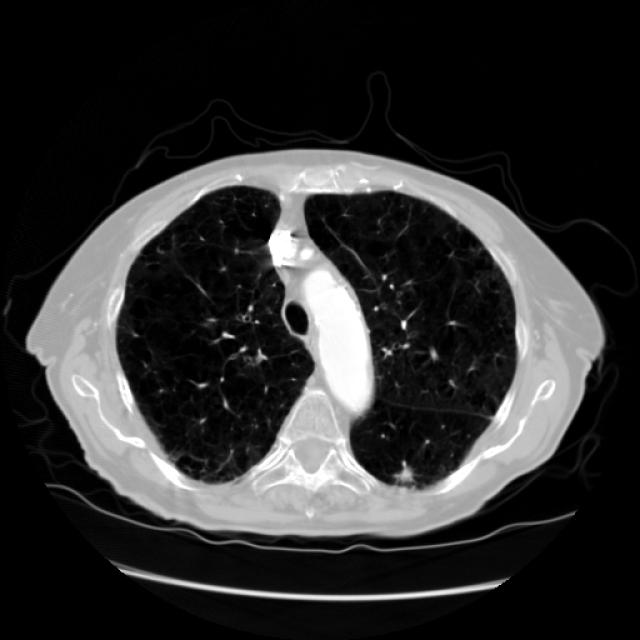nodule: (384, 456, 424, 496)
